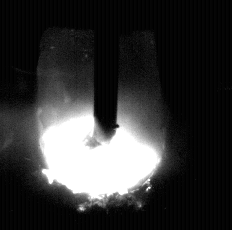arame: (95, 0, 119, 143)
poca: (38, 0, 166, 230)
